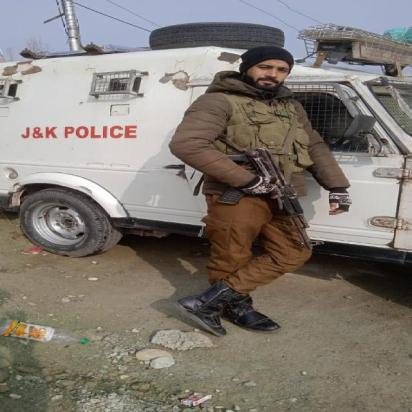Gun: (214, 146, 327, 252)
